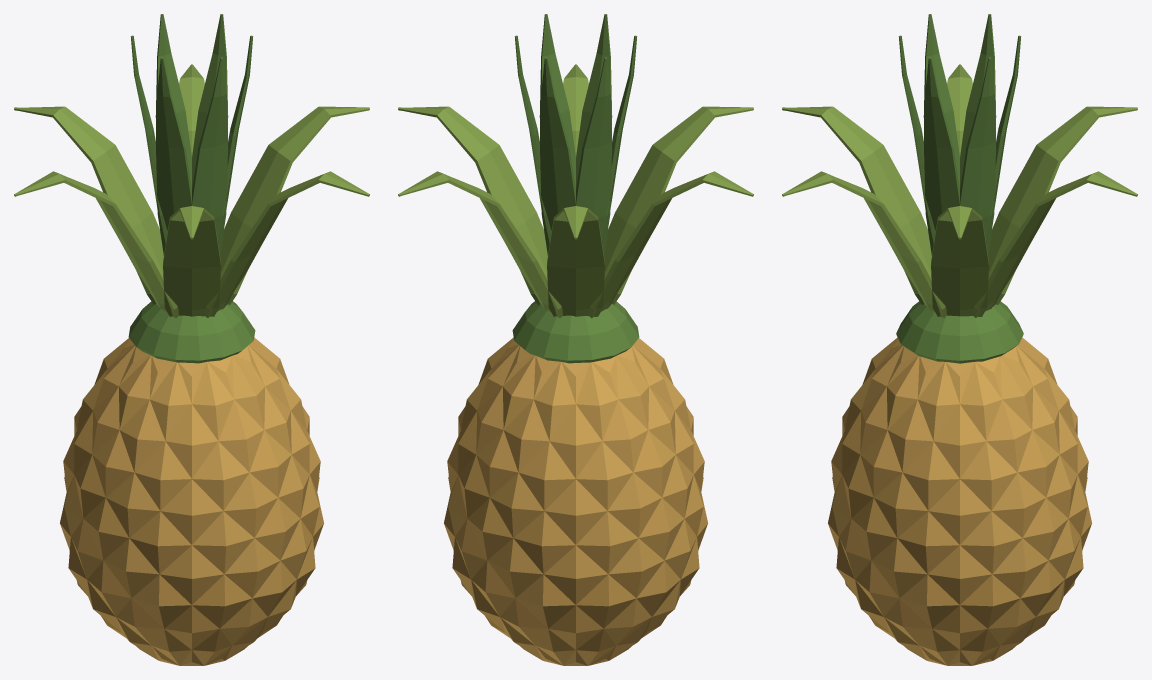
3 views of the same model, side by side, from view 1: azimuth 30°, elevation 25°; view 2: azimuth 150°, elevation 25°; view 3: azimuth 270°, elevation 25° (orthographic).
Parts seen in each view (by area): view 1: WholeRaisedDiamondRindFruit, WholeGreenCrownCore, WholeRecurvedOuterCrownLeaf5, WholeRecurvedOuterCrownLeaf1, WholeRecurvedOuterCrownLeaf3, WholeUprightInnerCrownLeaf5, WholeUprightInnerCrownLeaf4, WholeRecurvedOuterCrownLeaf6, WholeRecurvedOuterCrownLeaf4, WholeUprightInnerCrownLeaf1, WholeUprightInnerCrownLeaf2, WholeUprightInnerCrownLeaf3 (+2 smaller); view 2: WholeRaisedDiamondRindFruit, WholeGreenCrownCore, WholeRecurvedOuterCrownLeaf3, WholeRecurvedOuterCrownLeaf5, WholeRecurvedOuterCrownLeaf1, WholeUprightInnerCrownLeaf3, WholeUprightInnerCrownLeaf2, WholeRecurvedOuterCrownLeaf4, WholeRecurvedOuterCrownLeaf2, WholeUprightInnerCrownLeaf5, WholeUprightInnerCrownLeaf6, WholeUprightInnerCrownLeaf1 (+2 smaller); view 3: WholeRaisedDiamondRindFruit, WholeGreenCrownCore, WholeRecurvedOuterCrownLeaf1, WholeRecurvedOuterCrownLeaf3, WholeRecurvedOuterCrownLeaf5, WholeUprightInnerCrownLeaf1, WholeUprightInnerCrownLeaf6, WholeRecurvedOuterCrownLeaf2, WholeRecurvedOuterCrownLeaf6, WholeUprightInnerCrownLeaf3, WholeUprightInnerCrownLeaf4, WholeUprightInnerCrownLeaf5 (+2 smaller).
Part boxes in pixels (x1,y1,x2,y2): WholeRaisedDiamondRindFruit: [60, 337, 323, 665]; WholeGreenCrownCore: [128, 301, 255, 363]; WholeRecurvedOuterCrownLeaf5: [163, 206, 220, 316]; WholeRecurvedOuterCrownLeaf1: [220, 106, 369, 304]; WholeRecurvedOuterCrownLeaf3: [14, 106, 163, 304]; WholeUprightInnerCrownLeaf5: [192, 57, 228, 255]; WholeUprightInnerCrownLeaf4: [155, 57, 191, 255]; WholeRecurvedOuterCrownLeaf6: [205, 171, 369, 317]; WholeRecurvedOuterCrownLeaf4: [14, 171, 178, 318]; WholeUprightInnerCrownLeaf1: [192, 14, 228, 188]; WholeUprightInnerCrownLeaf2: [155, 14, 191, 188]; WholeUprightInnerCrownLeaf3: [130, 35, 167, 243]; WholeRaisedDiamondRindFruit: [444, 337, 707, 665]; WholeGreenCrownCore: [512, 301, 639, 363]; WholeRecurvedOuterCrownLeaf3: [547, 206, 604, 316]; WholeRecurvedOuterCrownLeaf5: [604, 106, 753, 304]; WholeRecurvedOuterCrownLeaf1: [398, 106, 547, 304]; WholeUprightInnerCrownLeaf3: [576, 57, 612, 255]; WholeUprightInnerCrownLeaf2: [539, 57, 575, 255]; WholeRecurvedOuterCrownLeaf4: [589, 171, 753, 318]; WholeRecurvedOuterCrownLeaf2: [398, 171, 562, 317]; WholeUprightInnerCrownLeaf5: [576, 14, 612, 188]; WholeUprightInnerCrownLeaf6: [539, 14, 575, 188]; WholeUprightInnerCrownLeaf1: [514, 35, 551, 243]; WholeRaisedDiamondRindFruit: [828, 337, 1091, 665]; WholeGreenCrownCore: [896, 301, 1023, 363]; WholeRecurvedOuterCrownLeaf1: [931, 206, 988, 316]; WholeRecurvedOuterCrownLeaf3: [988, 106, 1137, 304]; WholeRecurvedOuterCrownLeaf5: [782, 106, 931, 304]; WholeUprightInnerCrownLeaf1: [960, 57, 996, 255]; WholeUprightInnerCrownLeaf6: [923, 57, 959, 255]; WholeRecurvedOuterCrownLeaf2: [973, 171, 1137, 317]; WholeRecurvedOuterCrownLeaf6: [782, 171, 946, 317]; WholeUprightInnerCrownLeaf3: [960, 14, 996, 188]; WholeUprightInnerCrownLeaf4: [923, 14, 959, 188]; WholeUprightInnerCrownLeaf5: [898, 35, 935, 243].
Bounding box in the file's own units: 0.4807 × 0.7902 × 0.4174.
